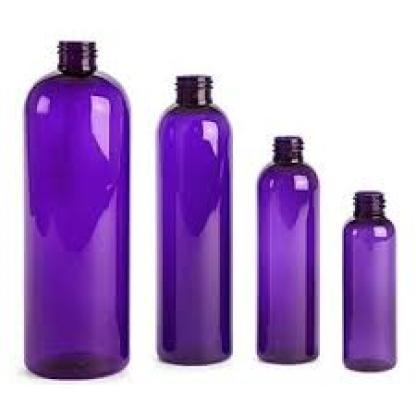trash: (25, 41, 128, 377), (157, 75, 231, 363), (257, 136, 318, 362), (344, 191, 395, 370)
